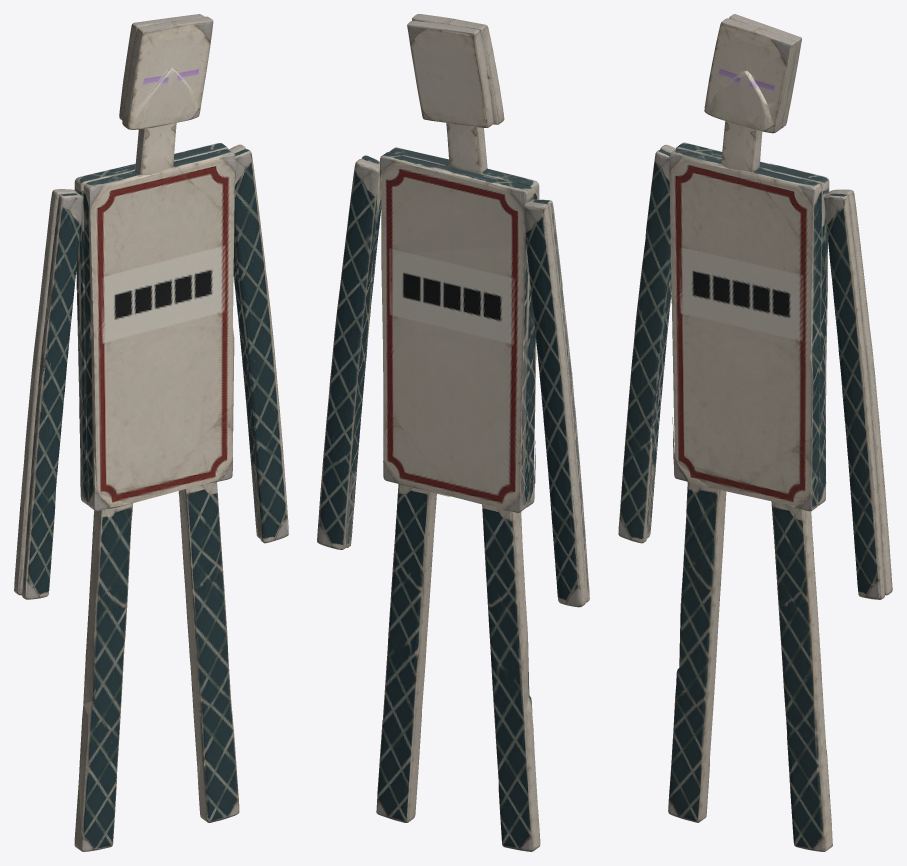
3 views of the same model, side by side, from view 1: azimuth 30°, elevation 25°; view 2: azimuth 150°, elevation 25°; view 3: azimuth 330°, elevation 25° (orthographic).
Size of the model in its own units: 0.6524 by 1.9 by 0.0899.
Materials: 1 (1 with a texture image).
